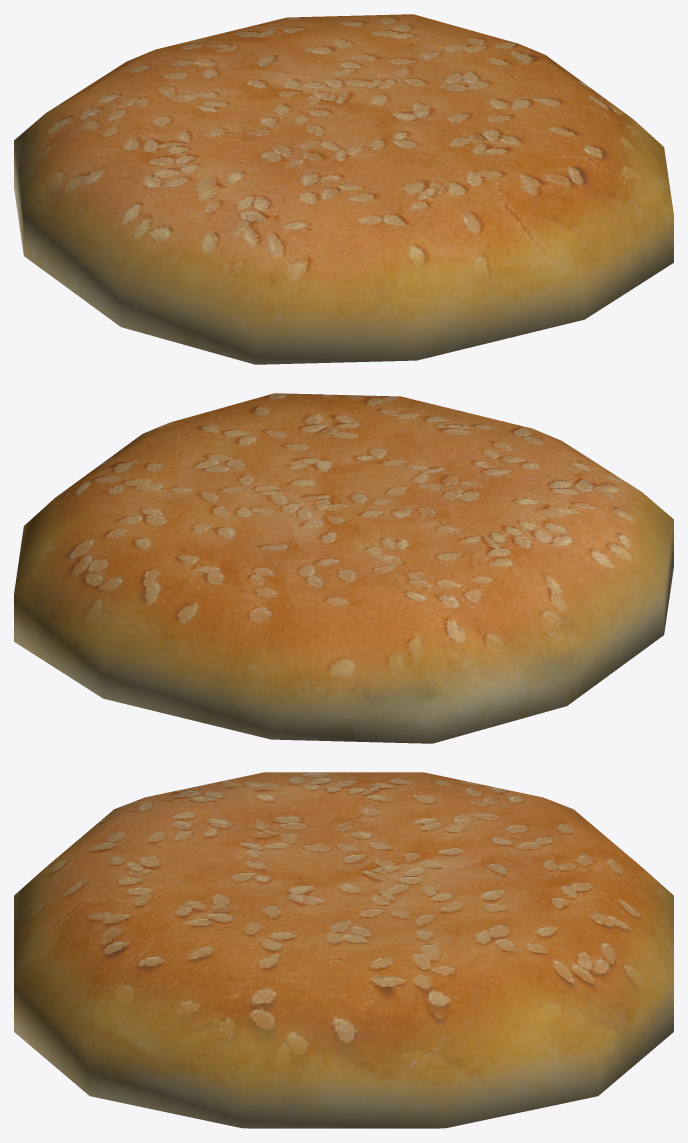
Rendered from bun_top.fbx.
The picture shows the model from 3 angles, top to bottom: view 1: azimuth 30°, elevation 25°; view 2: azimuth 150°, elevation 25°; view 3: azimuth 270°, elevation 25°; orthographic projection. The views are drawn at different scales.
Visible parts, largest first — view 1: BunTop; view 2: BunTop; view 3: BunTop.
Part boxes in pixels (x1=…): BunTop: x1=14, y1=14, x2=673, y2=364; BunTop: x1=14, y1=393, x2=673, y2=743; BunTop: x1=14, y1=772, x2=673, y2=1128.
Bounding box in the file's own units: 65.6 × 14.6 × 65.6.
